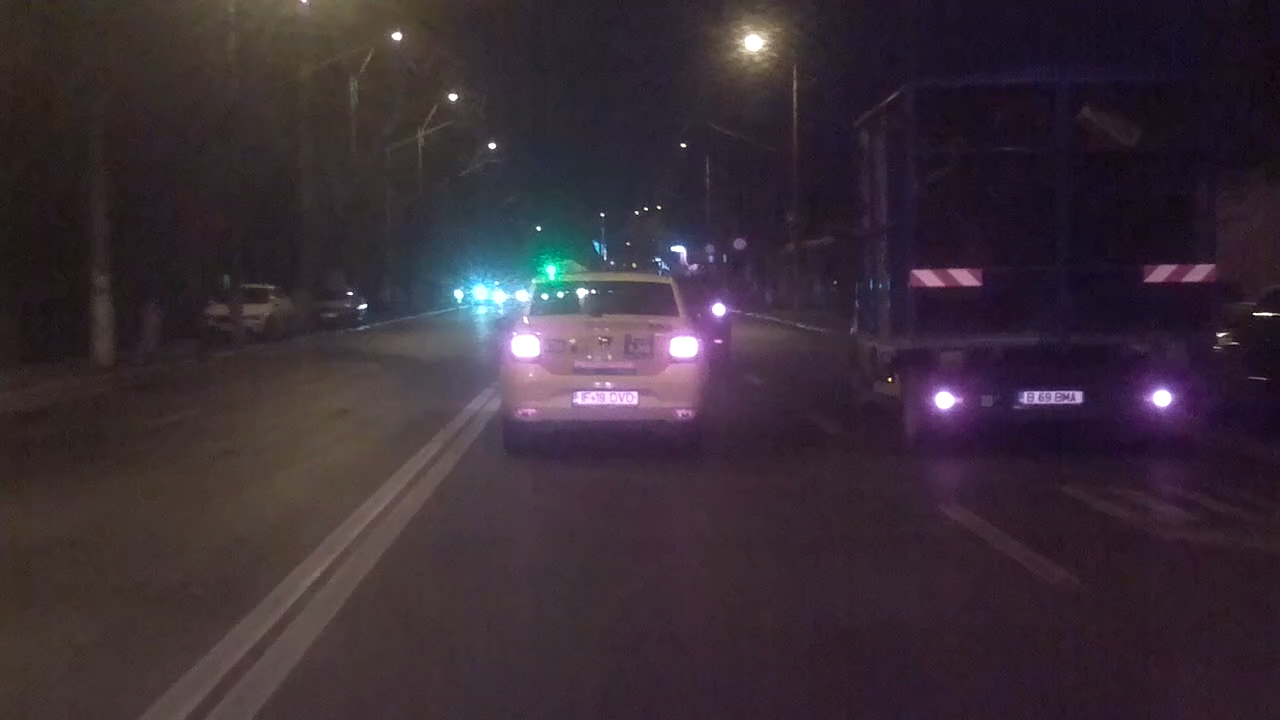license-plate: (569, 387, 641, 407), (1015, 388, 1085, 406)
